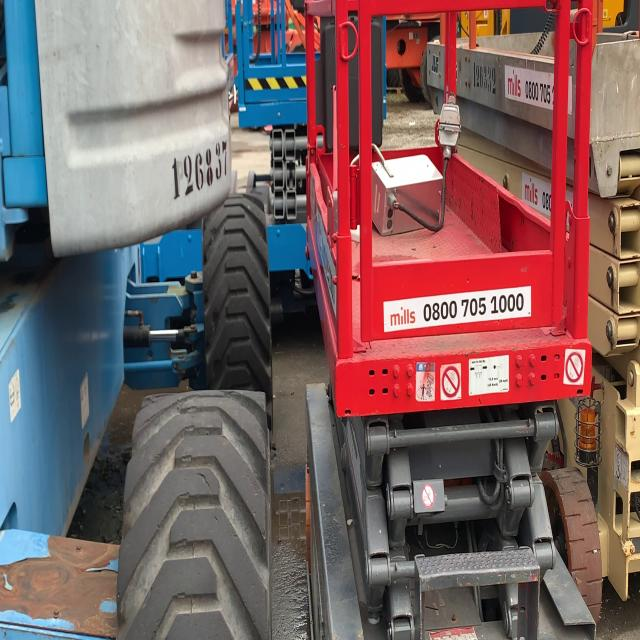Adesivo Longo: (383, 284, 532, 334)
